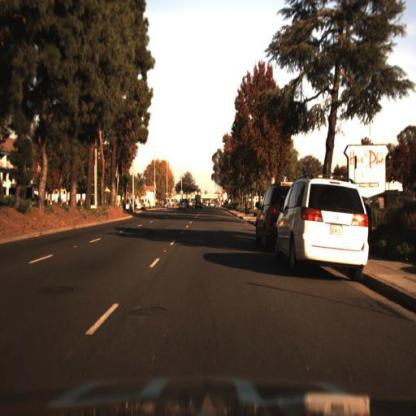car: (273, 171, 373, 289), (255, 181, 279, 259), (118, 197, 133, 214), (176, 194, 189, 210), (193, 197, 204, 215), (132, 197, 141, 214), (244, 199, 250, 222)
pedestrian: (244, 198, 252, 219)
